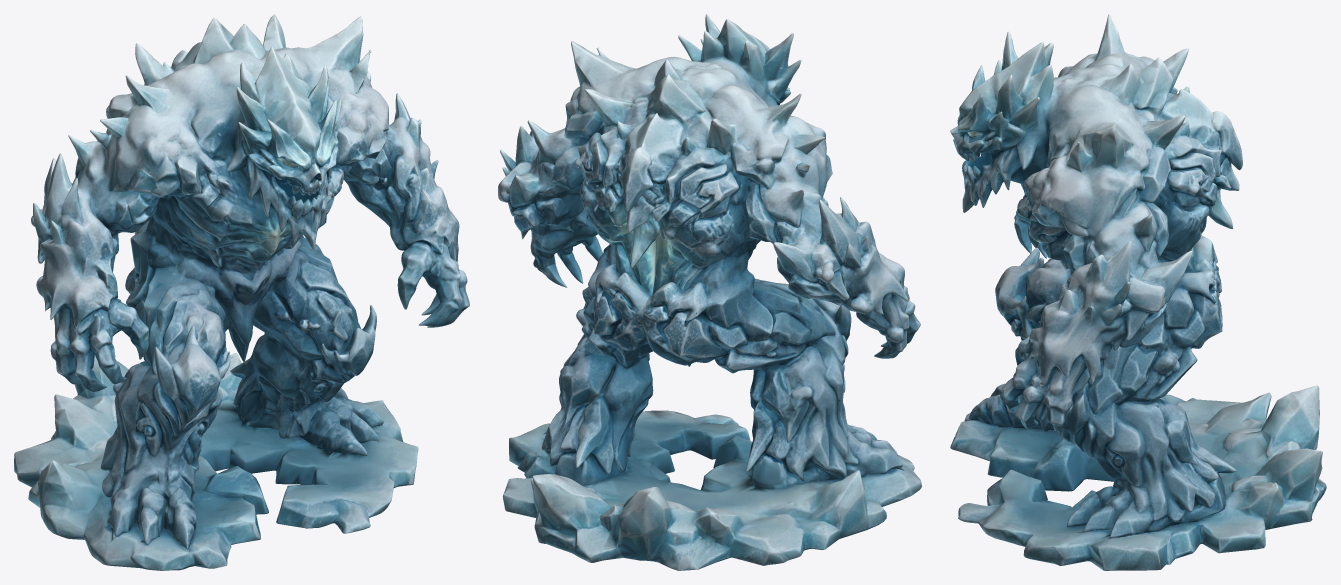
Rendered from ice-golem.glb.
3 views of the same model, side by side, from view 1: azimuth 30°, elevation 25°; view 2: azimuth 150°, elevation 25°; view 3: azimuth 270°, elevation 25° (orthographic). The views are drawn at different scales.
Visible parts, largest first — view 1: tripo_part_0, tripo_part_1, tripo_part_6, tripo_part_16, tripo_part_2, tripo_part_3, tripo_part_5, tripo_part_8, tripo_part_9, tripo_part_7, tripo_part_12, tripo_part_10 (+5 smaller); view 2: tripo_part_0, tripo_part_16, tripo_part_19, tripo_part_1, tripo_part_6, tripo_part_3, tripo_part_5, tripo_part_8, tripo_part_12, tripo_part_2, tripo_part_14, tripo_part_7 (+5 smaller); view 3: tripo_part_0, tripo_part_3, tripo_part_8, tripo_part_7, tripo_part_2, tripo_part_19, tripo_part_9, tripo_part_16, tripo_part_13, tripo_part_1, tripo_part_6, tripo_part_11 (+2 smaller).
Boxes of the visible parts, x1,y1,x2,y2 form: tripo_part_0: [14, 353, 418, 570]; tripo_part_1: [100, 326, 230, 549]; tripo_part_6: [90, 43, 264, 197]; tripo_part_16: [125, 165, 352, 361]; tripo_part_2: [227, 47, 341, 250]; tripo_part_3: [230, 305, 384, 456]; tripo_part_5: [31, 153, 117, 356]; tripo_part_8: [259, 14, 388, 168]; tripo_part_9: [253, 235, 359, 361]; tripo_part_7: [385, 93, 459, 262]; tripo_part_12: [131, 266, 229, 378]; tripo_part_10: [50, 298, 148, 391]; tripo_part_0: [502, 410, 921, 570]; tripo_part_16: [579, 180, 772, 366]; tripo_part_19: [574, 59, 739, 268]; tripo_part_1: [745, 298, 902, 489]; tripo_part_6: [685, 61, 832, 208]; tripo_part_3: [541, 333, 653, 485]; tripo_part_5: [773, 197, 909, 330]; tripo_part_8: [564, 41, 693, 139]; tripo_part_12: [714, 278, 835, 373]; tripo_part_2: [678, 14, 801, 106]; tripo_part_14: [744, 183, 828, 244]; tripo_part_7: [498, 126, 588, 243]; tripo_part_0: [950, 385, 1326, 570]; tripo_part_3: [1057, 393, 1236, 538]; tripo_part_8: [1024, 84, 1185, 240]; tripo_part_7: [1024, 241, 1192, 396]; tripo_part_2: [950, 31, 1057, 212]; tripo_part_19: [1098, 57, 1242, 228]; tripo_part_9: [1072, 296, 1204, 414]; tripo_part_16: [1016, 168, 1222, 348]; tripo_part_13: [1062, 193, 1168, 278]; tripo_part_1: [968, 248, 1054, 431]; tripo_part_6: [1053, 14, 1188, 100]; tripo_part_11: [1000, 336, 1090, 430].
Size of the model in its own units: 0.9008 by 0.9998 by 0.7504.
Materials: 18 (18 with a texture image).
